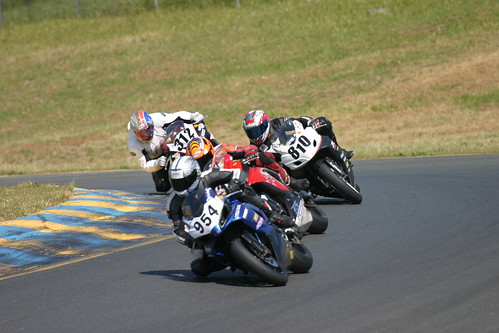helmet: (235, 105, 271, 141), (167, 155, 199, 192), (127, 109, 154, 137)
